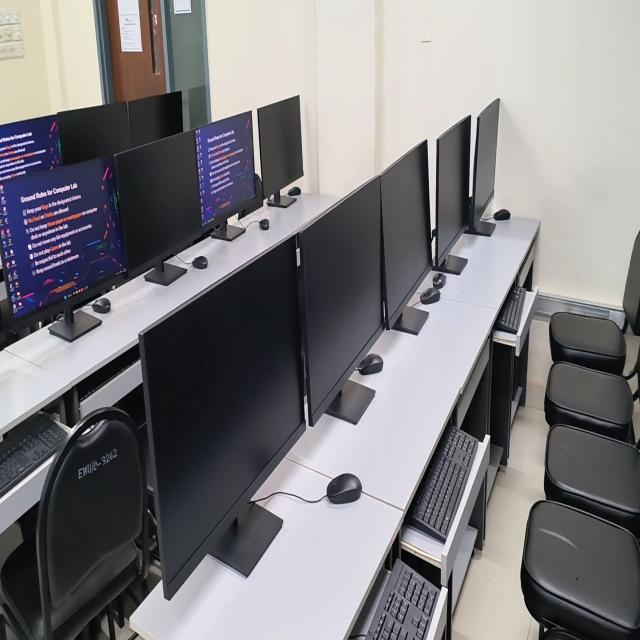Chair: (0, 407, 147, 639), (521, 501, 640, 639), (549, 231, 640, 400), (544, 425, 640, 540), (544, 363, 635, 444), (583, 580, 593, 591), (586, 389, 591, 393)
Keyboard: (407, 426, 478, 543), (366, 559, 443, 639), (0, 411, 67, 497), (495, 285, 526, 334), (384, 607, 387, 613), (415, 606, 418, 610)
Monitor: (140, 238, 305, 597), (298, 178, 384, 424), (0, 158, 126, 324), (114, 131, 208, 279), (380, 140, 432, 329), (194, 111, 254, 226), (433, 116, 471, 274), (257, 95, 303, 206), (58, 102, 134, 165), (0, 115, 62, 181), (469, 99, 500, 230), (127, 91, 183, 147), (158, 92, 181, 120)
Mouse: (327, 473, 362, 504), (357, 352, 383, 375), (420, 287, 440, 304), (92, 297, 111, 313), (192, 255, 208, 268), (433, 273, 446, 288), (493, 209, 510, 220), (288, 186, 301, 196), (259, 219, 269, 230)
